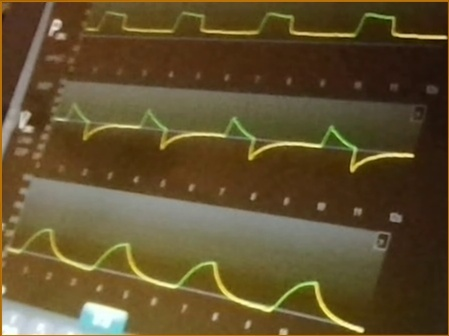Normal Flow: (56, 94, 412, 177)
Normal Volume: (8, 224, 363, 333)
